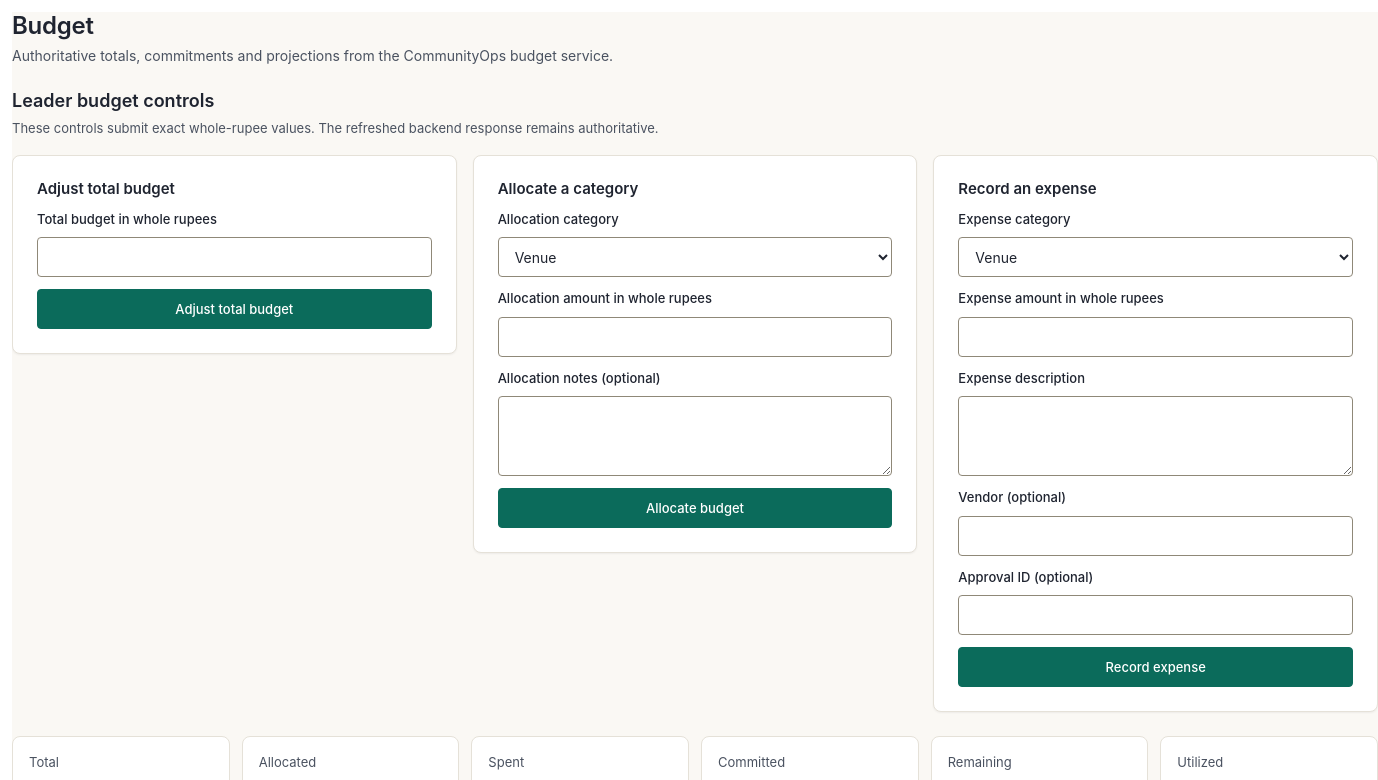
Test case: Budget leader controls › rejects invalid total  before requesting
Step 1. Click the button "Adjust total budget" → coordinates (234, 309), box 37,289 -> 432,329
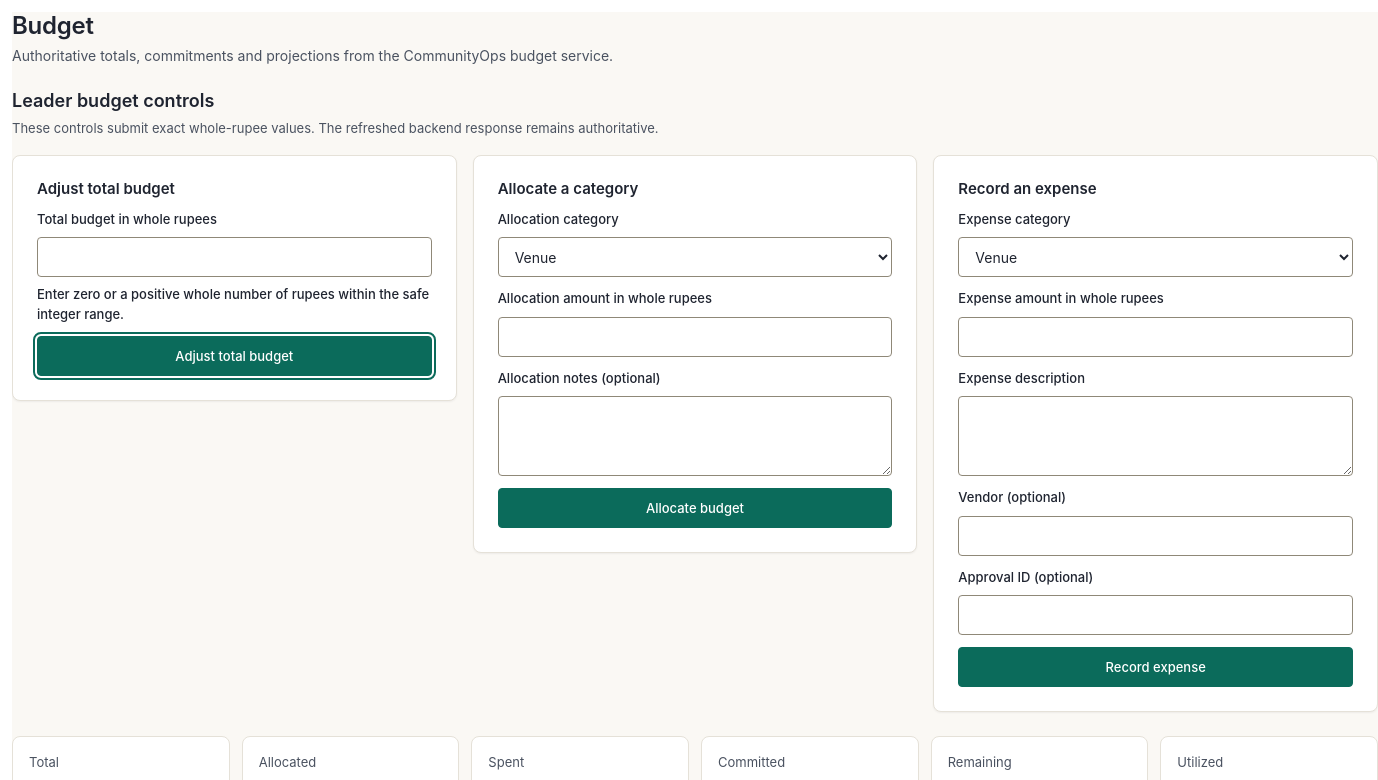
Result: the message shows "whole number of rupees" at 37,286 -> 429,322
